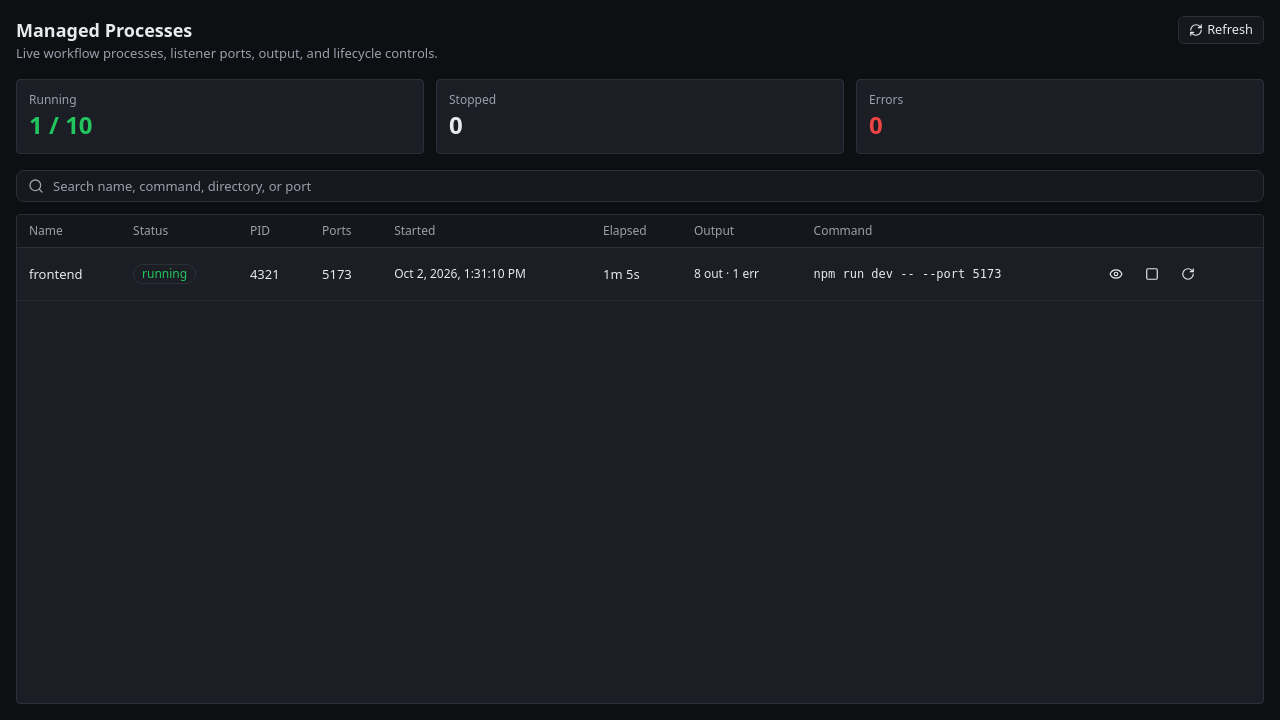
Test case: ProcessManagerPanel › renders live process identity, port, timing, and output details
The width and height of the screenshot is (1280, 720).
Expected: the text "frontend" is shown, [17,248,121,301]
Expected: the text "5173" is shown, [310,248,382,301]
Click the button named "Inspect frontend" at point(1116, 274), box [1098,260,1134,288]
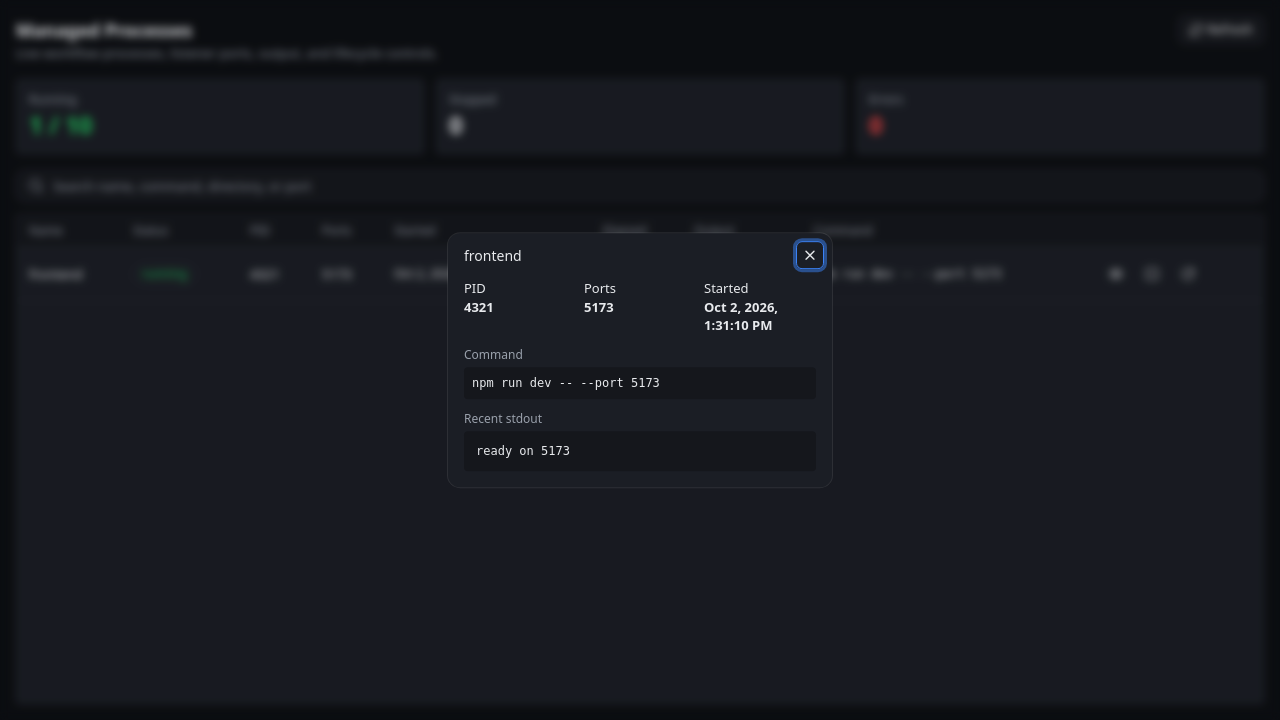
Now the text "ready on 5173" is shown, box [464,431,816,471]
